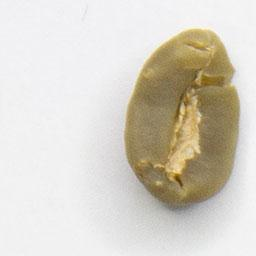premium: (121, 24, 244, 211)
